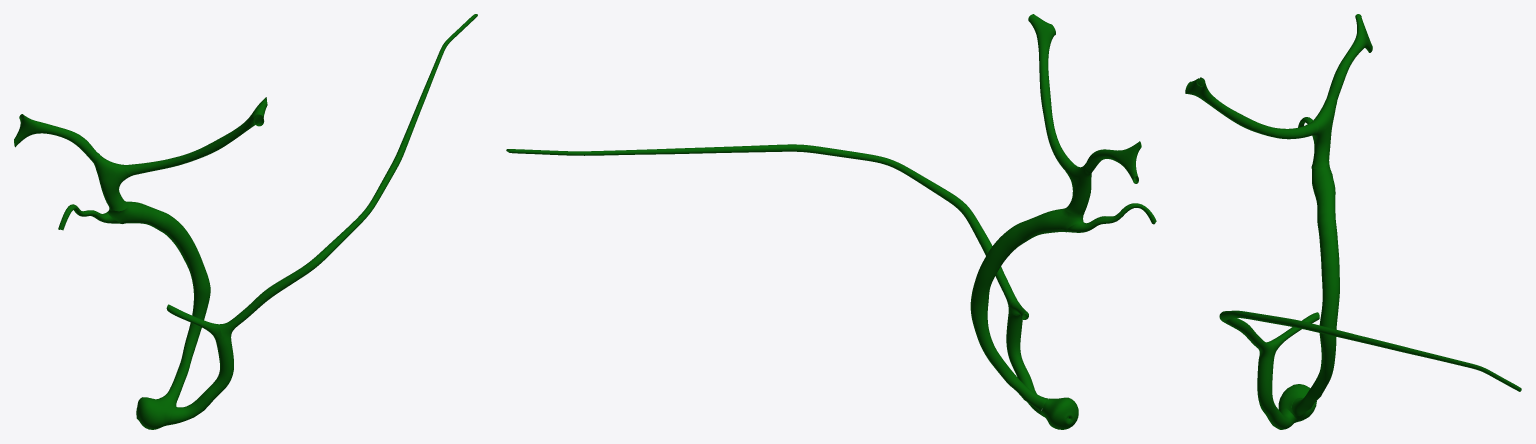
File: VH_M_Biliary_Tree.glb
The picture shows the model from 3 angles, left to right: view 1: azimuth 30°, elevation 25°; view 2: azimuth 150°, elevation 25°; view 3: azimuth 270°, elevation 25°; orthographic projection. The views are drawn at different scales.
Visible parts, largest first — view 1: VH_M_ventral_pancreatic_duct, VH_M_common_bile_duct, VH_M_left_hepatic_duct, VH_M_common_hepatic_duct, VH_M_right_hepatic_duct, VH_M_hepatopancreatic_ampulla, VH_M_dorsal_pancreatic_duct, VH_M_cystic_duct; view 2: VH_M_ventral_pancreatic_duct, VH_M_common_bile_duct, VH_M_left_hepatic_duct, VH_M_right_hepatic_duct, VH_M_hepatopancreatic_ampulla, VH_M_common_hepatic_duct, VH_M_cystic_duct; view 3: VH_M_common_bile_duct, VH_M_ventral_pancreatic_duct, VH_M_left_hepatic_duct, VH_M_common_hepatic_duct, VH_M_right_hepatic_duct, VH_M_hepatopancreatic_ampulla, VH_M_dorsal_pancreatic_duct.
Part boxes in pixels (x1=…): VH_M_ventral_pancreatic_duct: x1=167, y1=14, x2=477, y2=425; VH_M_common_bile_duct: x1=108, y1=201, x2=210, y2=404; VH_M_left_hepatic_duct: x1=125, y1=97, x2=267, y2=175; VH_M_common_hepatic_duct: x1=94, y1=154, x2=130, y2=211; VH_M_right_hepatic_duct: x1=14, y1=114, x2=99, y2=163; VH_M_hepatopancreatic_ampulla: x1=136, y1=397, x2=176, y2=429; VH_M_dorsal_pancreatic_duct: x1=166, y1=304, x2=221, y2=337; VH_M_cystic_duct: x1=58, y1=204, x2=121, y2=230; VH_M_ventral_pancreatic_duct: x1=506, y1=144, x2=1044, y2=417; VH_M_common_bile_duct: x1=970, y1=208, x2=1083, y2=411; VH_M_left_hepatic_duct: x1=1028, y1=14, x2=1075, y2=171; VH_M_right_hepatic_duct: x1=1084, y1=141, x2=1141, y2=183; VH_M_hepatopancreatic_ampulla: x1=1040, y1=397, x2=1078, y2=429; VH_M_common_hepatic_duct: x1=1065, y1=165, x2=1091, y2=214; VH_M_cystic_duct: x1=1065, y1=203, x2=1156, y2=232; VH_M_common_bile_duct: x1=1292, y1=164, x2=1339, y2=415; VH_M_ventral_pancreatic_duct: x1=1219, y1=310, x2=1521, y2=429; VH_M_left_hepatic_duct: x1=1185, y1=77, x2=1318, y2=139; VH_M_common_hepatic_duct: x1=1311, y1=98, x2=1336, y2=168; VH_M_right_hepatic_duct: x1=1326, y1=14, x2=1372, y2=101; VH_M_hepatopancreatic_ampulla: x1=1278, y1=384, x2=1316, y2=422; VH_M_dorsal_pancreatic_duct: x1=1269, y1=312, x2=1319, y2=352.
Bounding box in the file's own units: 0.1334 × 0.0826 × 0.0661.
